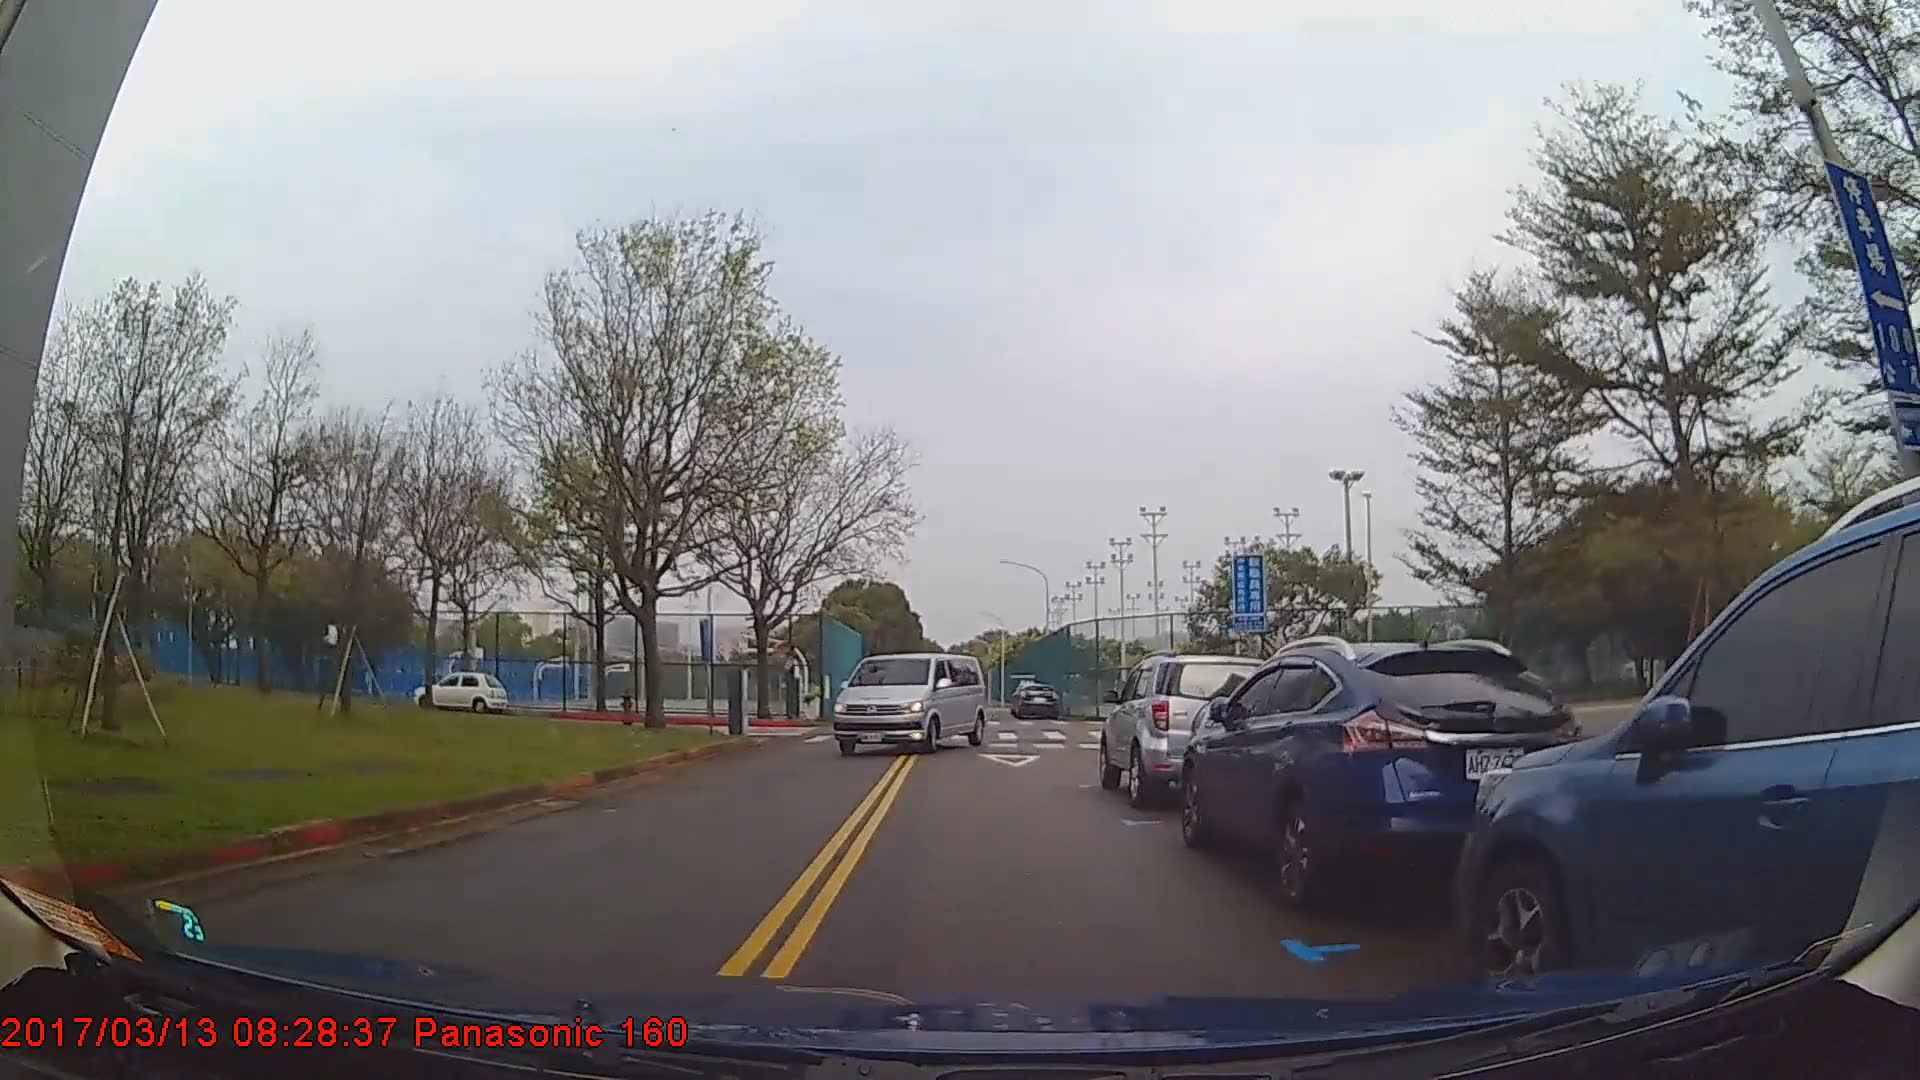vehicle: (1451, 498, 1919, 1015), (1179, 640, 1586, 914), (1098, 653, 1276, 806), (829, 651, 986, 757), (414, 670, 506, 715), (1014, 679, 1060, 720)
